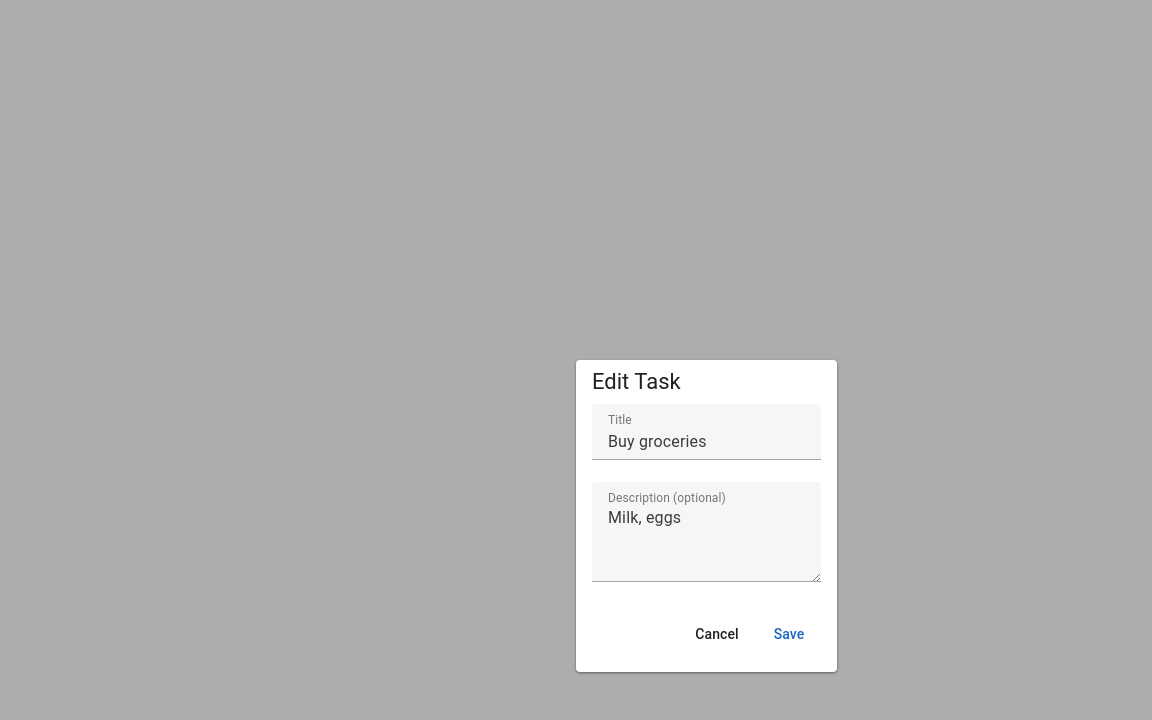
Test case: EditTaskDialog › shows validation error for empty title
The image size is (1152, 720).
Clear the field labelled "Title". click: (706, 432)
box: [592, 404, 821, 460]
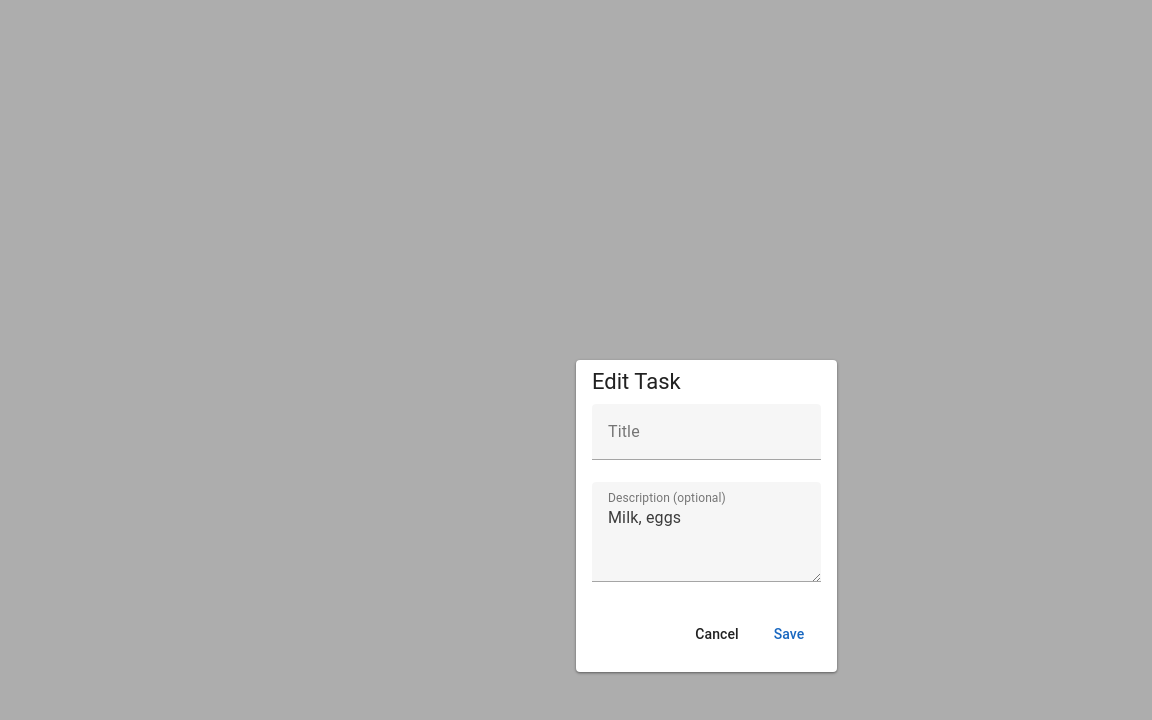
Click the submit button. click: click(789, 634)
box: [757, 616, 821, 652]
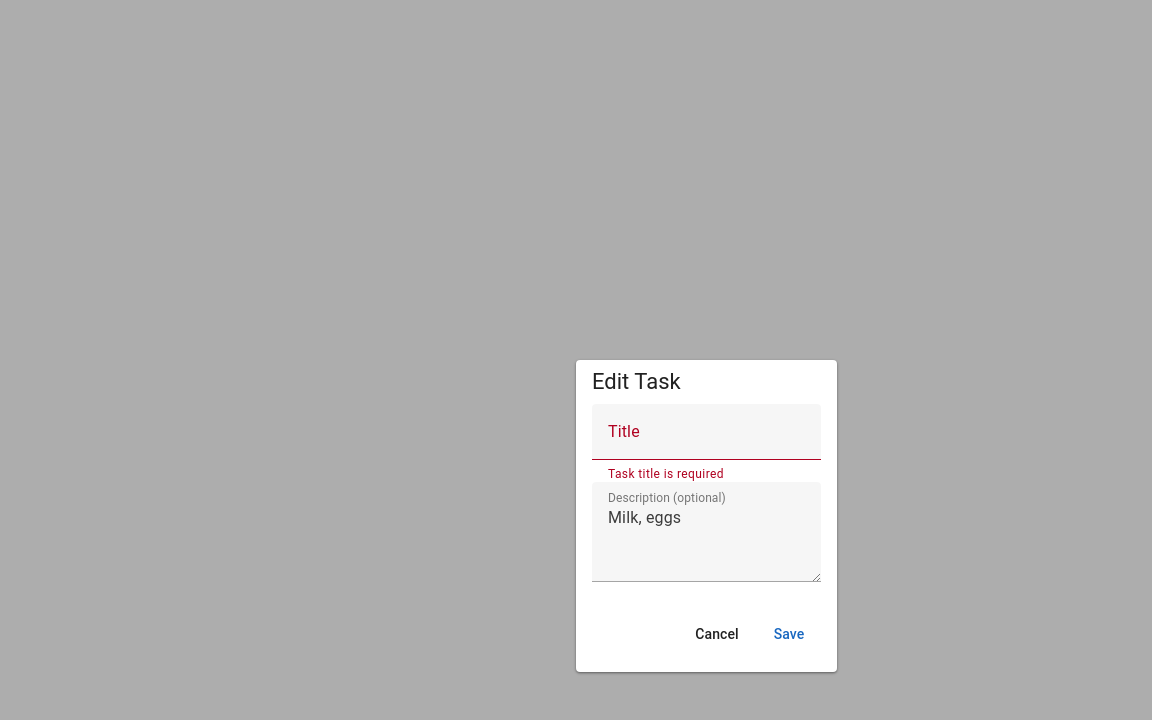
Expected: the text "Task title is required" is shown, [608, 467, 724, 481]
